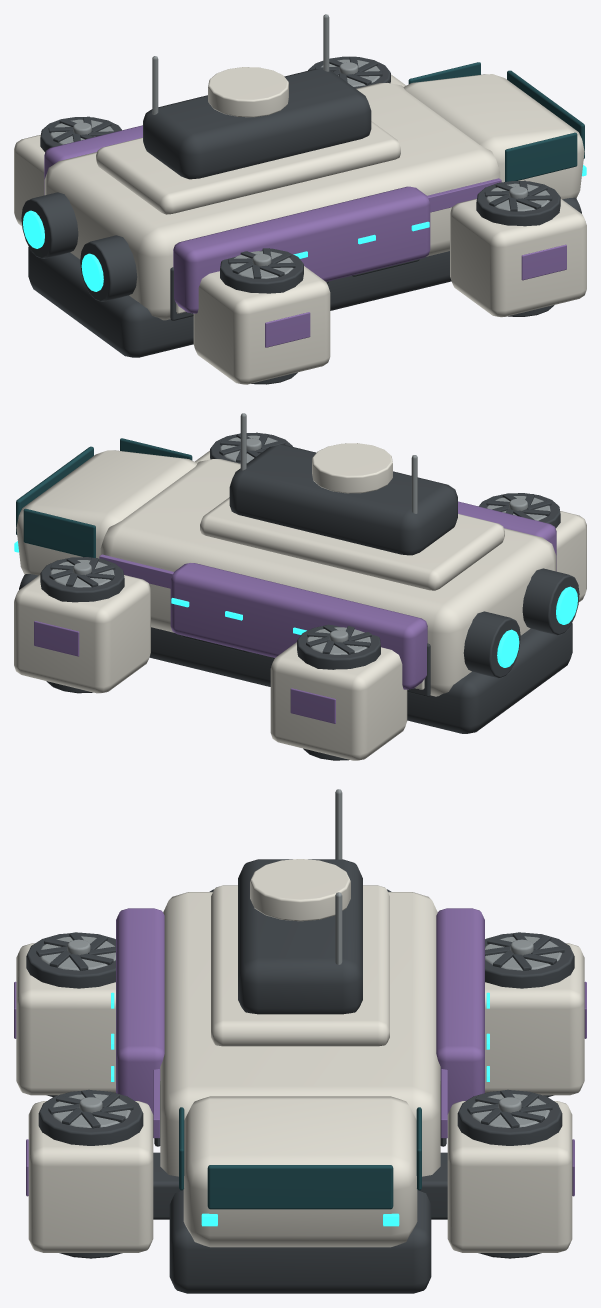
File: SM_NexusRobotics_Body.fbx
The picture shows the model from 3 angles, top to bottom: view 1: azimuth 30°, elevation 25°; view 2: azimuth 150°, elevation 25°; view 3: azimuth 270°, elevation 25°; orthographic projection. The views are drawn at different scales.
Visible parts, largest first — view 1: SM_NexusRobotics_Body.001; view 2: SM_NexusRobotics_Body.001; view 3: SM_NexusRobotics_Body.001.
Part boxes in pixels (x1=…): SM_NexusRobotics_Body.001: x1=14, y1=14, x2=586, y2=384; SM_NexusRobotics_Body.001: x1=14, y1=413, x2=586, y2=760; SM_NexusRobotics_Body.001: x1=14, y1=789, x2=586, y2=1293.
Size of the model in its own units: 34470 by 28440 by 16160.
